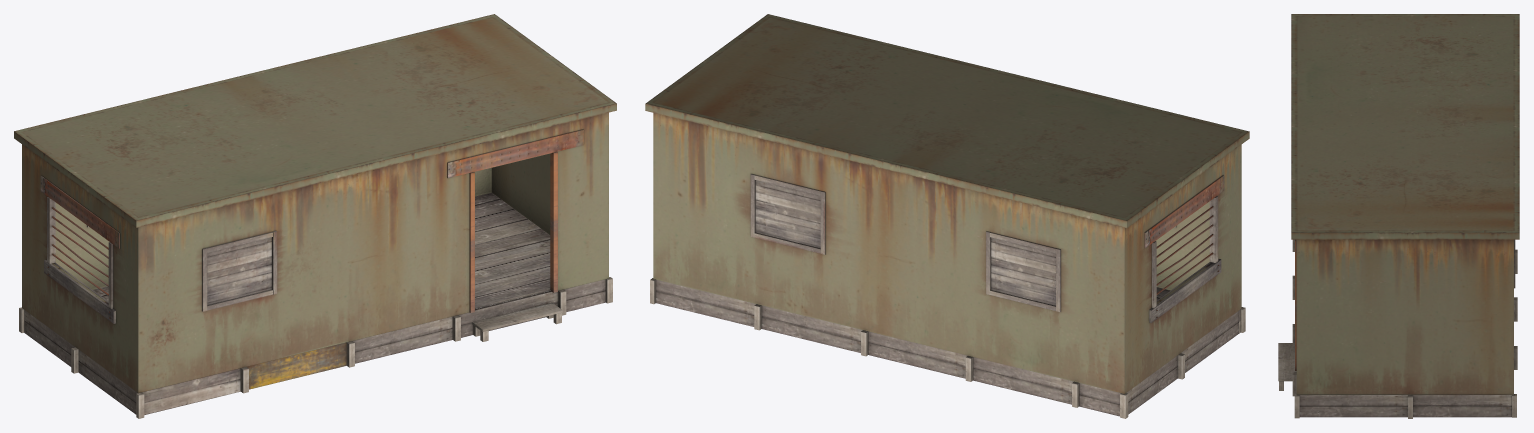
File: building__container__metal.obj
The picture shows the model from 3 angles, left to right: view 1: azimuth 30°, elevation 25°; view 2: azimuth 150°, elevation 25°; view 3: azimuth 270°, elevation 25°; orthographic projection. The views are drawn at different scales.
Visible parts, largest first — view 1: obj1; view 2: obj1; view 3: obj1.
Part boxes in pixels (bbox=[...]): obj1: bbox=[14, 14, 616, 418]; obj1: bbox=[645, 14, 1249, 418]; obj1: bbox=[1278, 14, 1519, 418].
Bounding box in the file's own units: 14.3 × 5.68 × 6.66.
